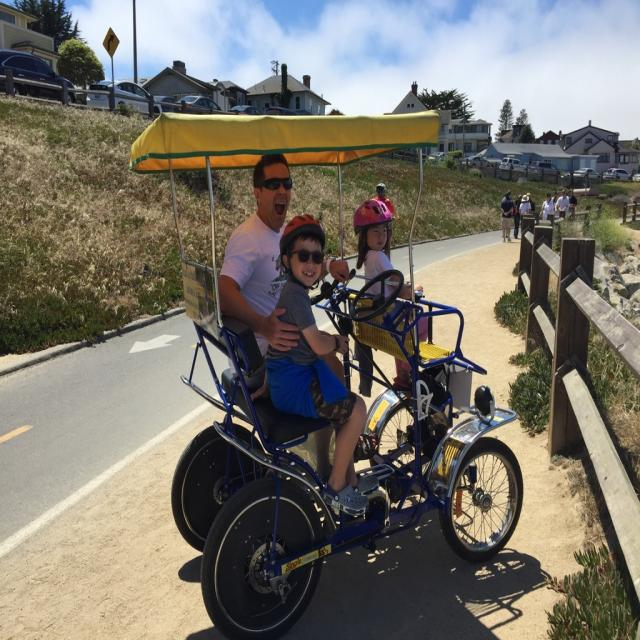car: (148, 119, 514, 622)
